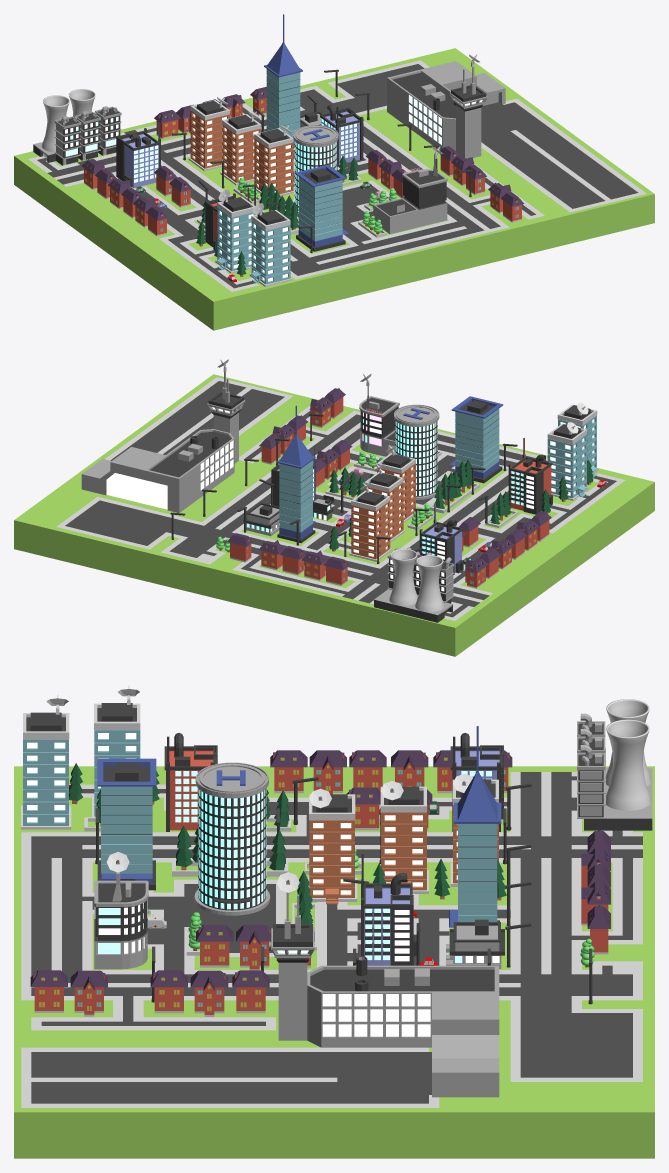
File: City_17 (3).fbx
3 views of the same model, one above another, from view 1: azimuth 30°, elevation 25°; view 2: azimuth 150°, elevation 25°; view 3: azimuth 270°, elevation 25° (orthographic). The views are drawn at different scales.
Visible parts, largest first — view 1: Cylinder; view 2: Cylinder; view 3: Cylinder.
Boxes of the visible parts, <box> form: Cylinder: <box>14,14,654,330</box>; Cylinder: <box>14,359,654,656</box>; Cylinder: <box>14,685,654,1158</box>.
Size of the model in its own units: 10451 by 3581 by 8181.
